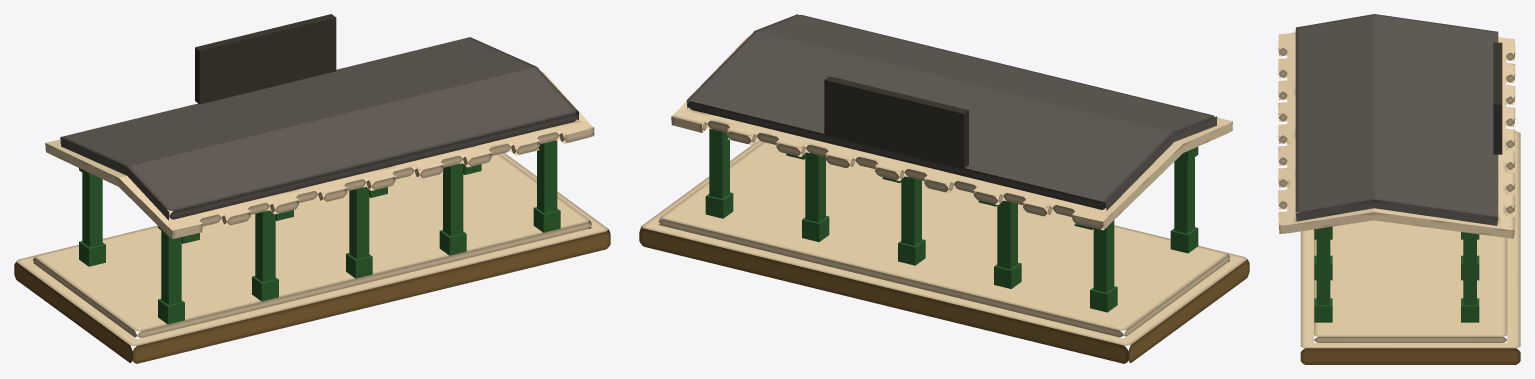
The model's file is station_back.obj.
3 renders of one model, left to right at view 1: azimuth 30°, elevation 25°; view 2: azimuth 150°, elevation 25°; view 3: azimuth 270°, elevation 25°, orthographic. The views are drawn at different scales.
Parts seen in each view (by area): view 1: mesh; view 2: mesh; view 3: mesh.
Part boxes in pixels (x1,y1,x2,y2): mesh: [14, 14, 610, 363]; mesh: [639, 14, 1249, 363]; mesh: [1278, 14, 1520, 364].
Size of the model in its own units: 3.5 by 1.38 by 1.65.
